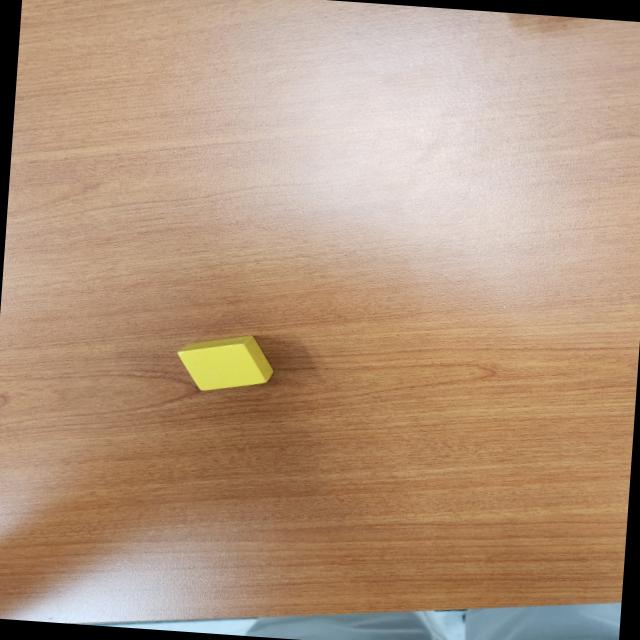yellow: (174, 330, 276, 394)
